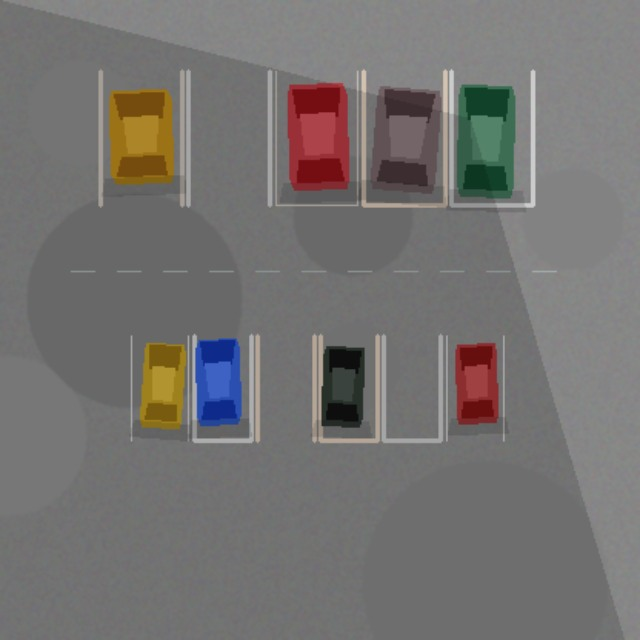space-empty: (188, 71, 269, 205), (257, 335, 314, 440), (383, 335, 440, 440)
space-occupied: (100, 71, 182, 205), (275, 71, 357, 205), (363, 71, 445, 205), (451, 71, 532, 205), (131, 335, 188, 440), (194, 335, 251, 440), (320, 335, 377, 440), (446, 335, 503, 440)
